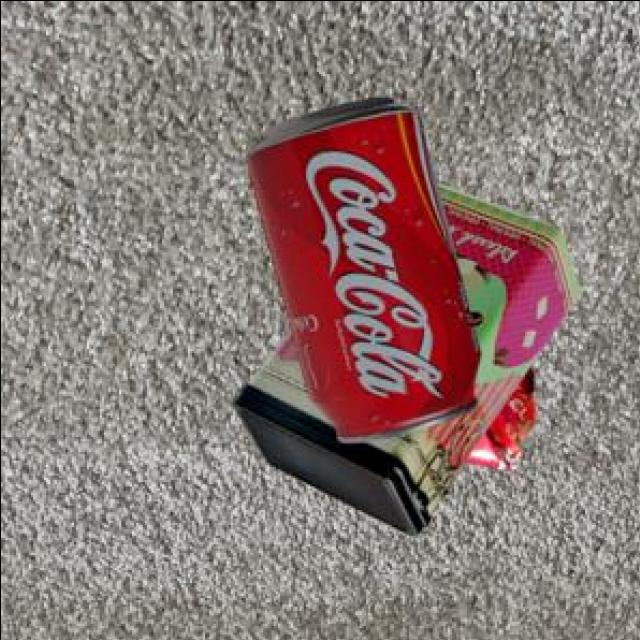logam: (235, 186, 581, 538), (250, 100, 482, 446), (467, 368, 538, 474)
